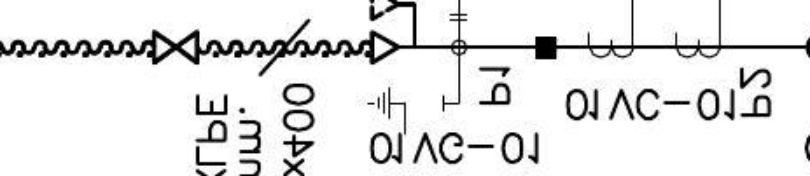22_gs: (367, 84, 447, 136)
terminator_splicing_kits: (151, 29, 200, 66)
